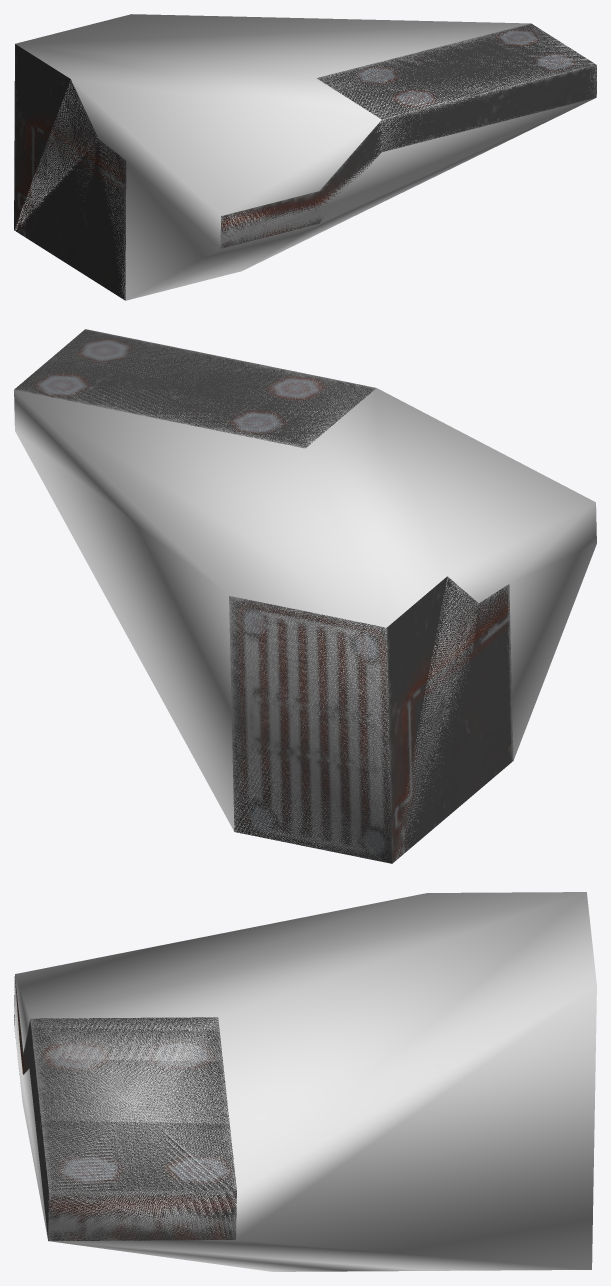
3 views of the same model, one above another, from view 1: azimuth 30°, elevation 25°; view 2: azimuth 150°, elevation 25°; view 3: azimuth 270°, elevation 25° (orthographic). The views are drawn at different scales.
Parts seen in each view (by area): view 1: weapon_machinegun_01_breech_col, weapon_machinegun_01_breech; view 2: weapon_machinegun_01_breech_col, weapon_machinegun_01_breech; view 3: weapon_machinegun_01_breech_col, weapon_machinegun_01_breech.
Part boxes in pixels (left/top/right/bottom): weapon_machinegun_01_breech_col: left=15, top=14, right=596, bottom=300; weapon_machinegun_01_breech: left=14, top=23, right=596, bottom=300; weapon_machinegun_01_breech_col: left=14, top=329, right=596, bottom=862; weapon_machinegun_01_breech: left=14, top=329, right=513, bottom=863; weapon_machinegun_01_breech_col: left=14, top=892, right=596, bottom=1271; weapon_machinegun_01_breech: left=14, top=976, right=236, bottom=1241.
Size of the model in its own units: 0.2287 by 0.1044 by 0.1812.
Materials: 1 (1 with a texture image).
